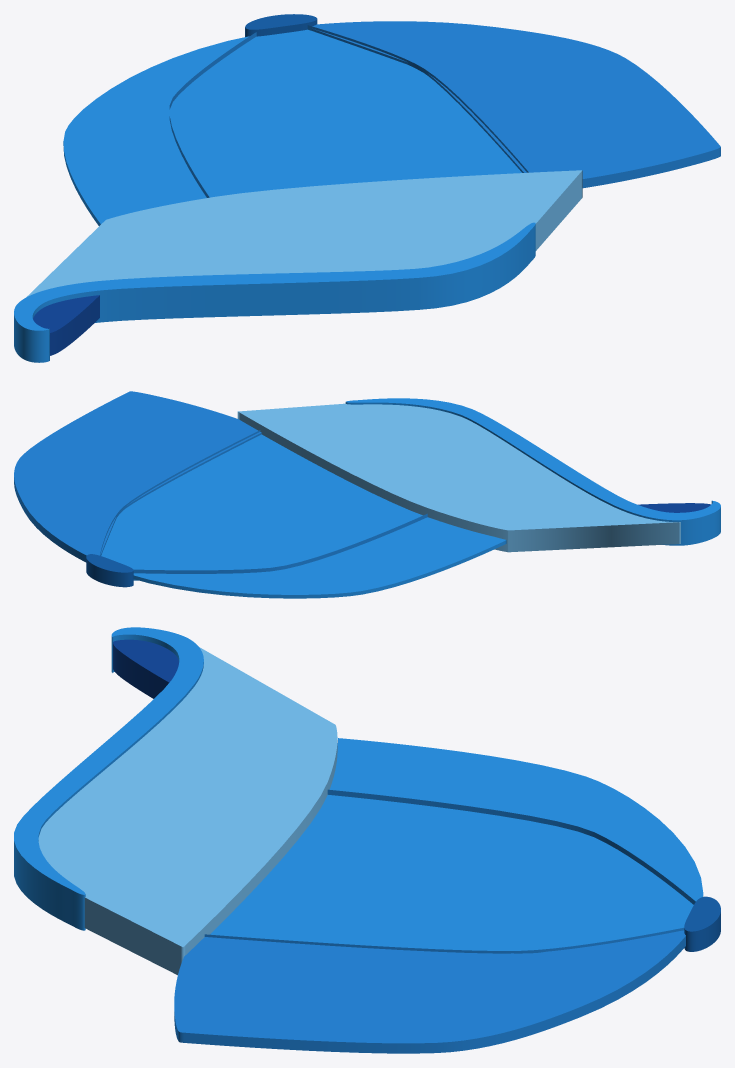
File: emoji_u1f9e2.glb
3 views of the same model, one above another, from view 1: azimuth 30°, elevation 25°; view 2: azimuth 150°, elevation 25°; view 3: azimuth 270°, elevation 25° (orthographic). The views are drawn at different scales.
Parts seen in each view (by area): view 1: emoji_u1f9e2; view 2: emoji_u1f9e2; view 3: emoji_u1f9e2.
Boxes of the visible parts, <box> form: emoji_u1f9e2: <box>14,14,720,362</box>; emoji_u1f9e2: <box>14,391,720,598</box>; emoji_u1f9e2: <box>14,627,720,1053</box>.
Bounding box in the file's own units: 0.0338 × 0.0014 × 0.0251.
